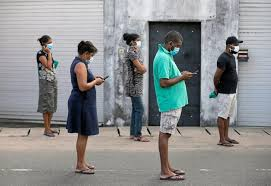Social Distance: (34, 25, 244, 179)
